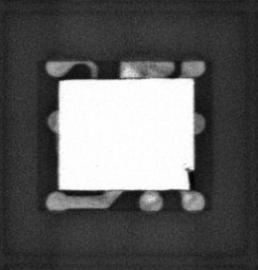DIE_BROKEN: (185, 166, 195, 191)
